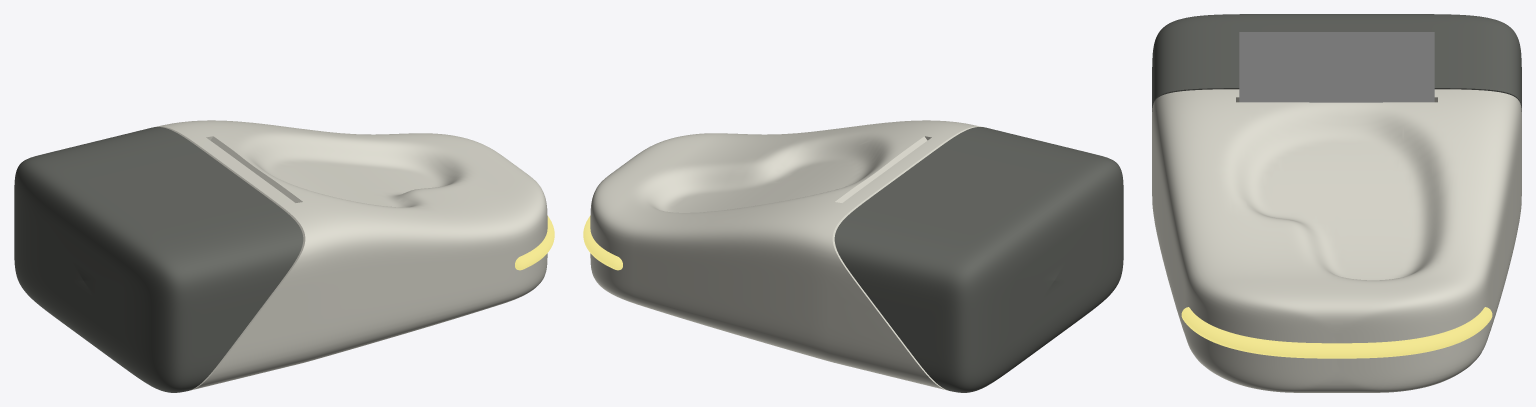
The model's file is fold_mark.glb.
3 views of the same model, side by side, from view 1: azimuth 30°, elevation 25°; view 2: azimuth 150°, elevation 25°; view 3: azimuth 270°, elevation 25° (orthographic). The views are drawn at different scales.
Bounding box in the file's own units: 0.1704 × 0.0875 × 0.11.
